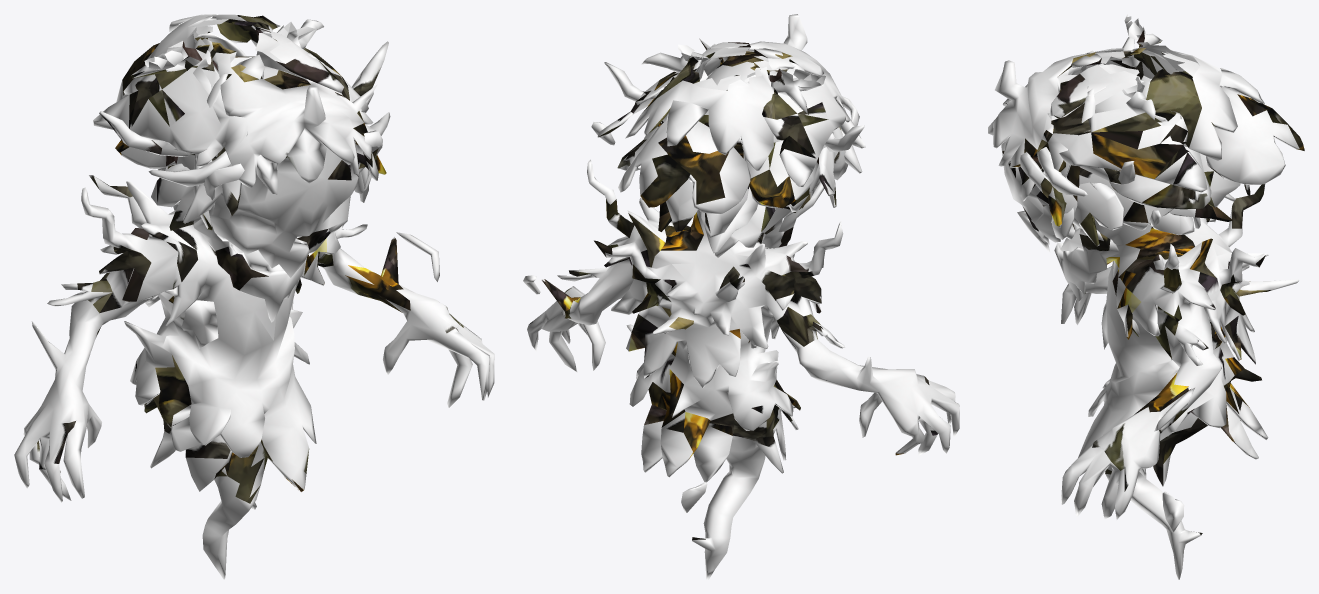
Rendered from wither_sprite_gold_7500tris.fbx.
3 renders of one model, left to right at view 1: azimuth 30°, elevation 25°; view 2: azimuth 150°, elevation 25°; view 3: azimuth 270°, elevation 25°, orthographic. The views are drawn at different scales.
Parts seen in each view (by area): view 1: wither_sprite_gold_decimated; view 2: wither_sprite_gold_decimated; view 3: wither_sprite_gold_decimated.
Boxes of the visible parts, bbox=[...] form: wither_sprite_gold_decimated: bbox=[14, 14, 494, 579]; wither_sprite_gold_decimated: bbox=[523, 14, 959, 579]; wither_sprite_gold_decimated: bbox=[988, 14, 1304, 579].
Size of the model in its own units: 1.43 by 1.67 by 0.9149.
